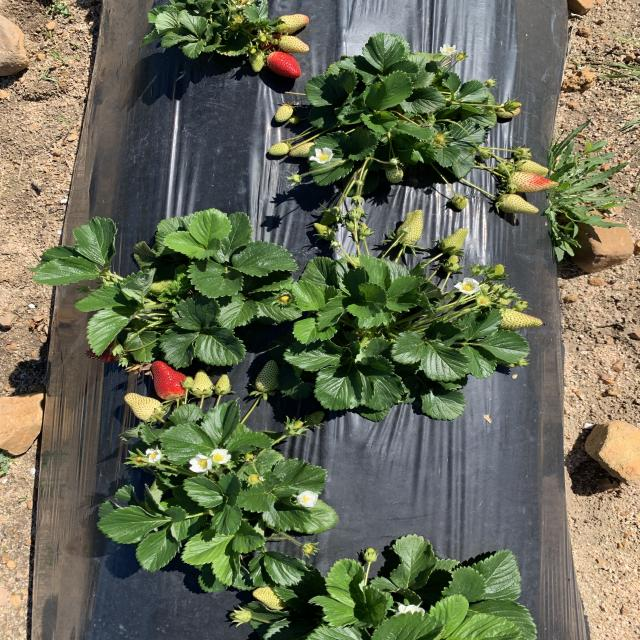unripe: (149, 360, 190, 400), (264, 50, 304, 80), (81, 338, 126, 362)
